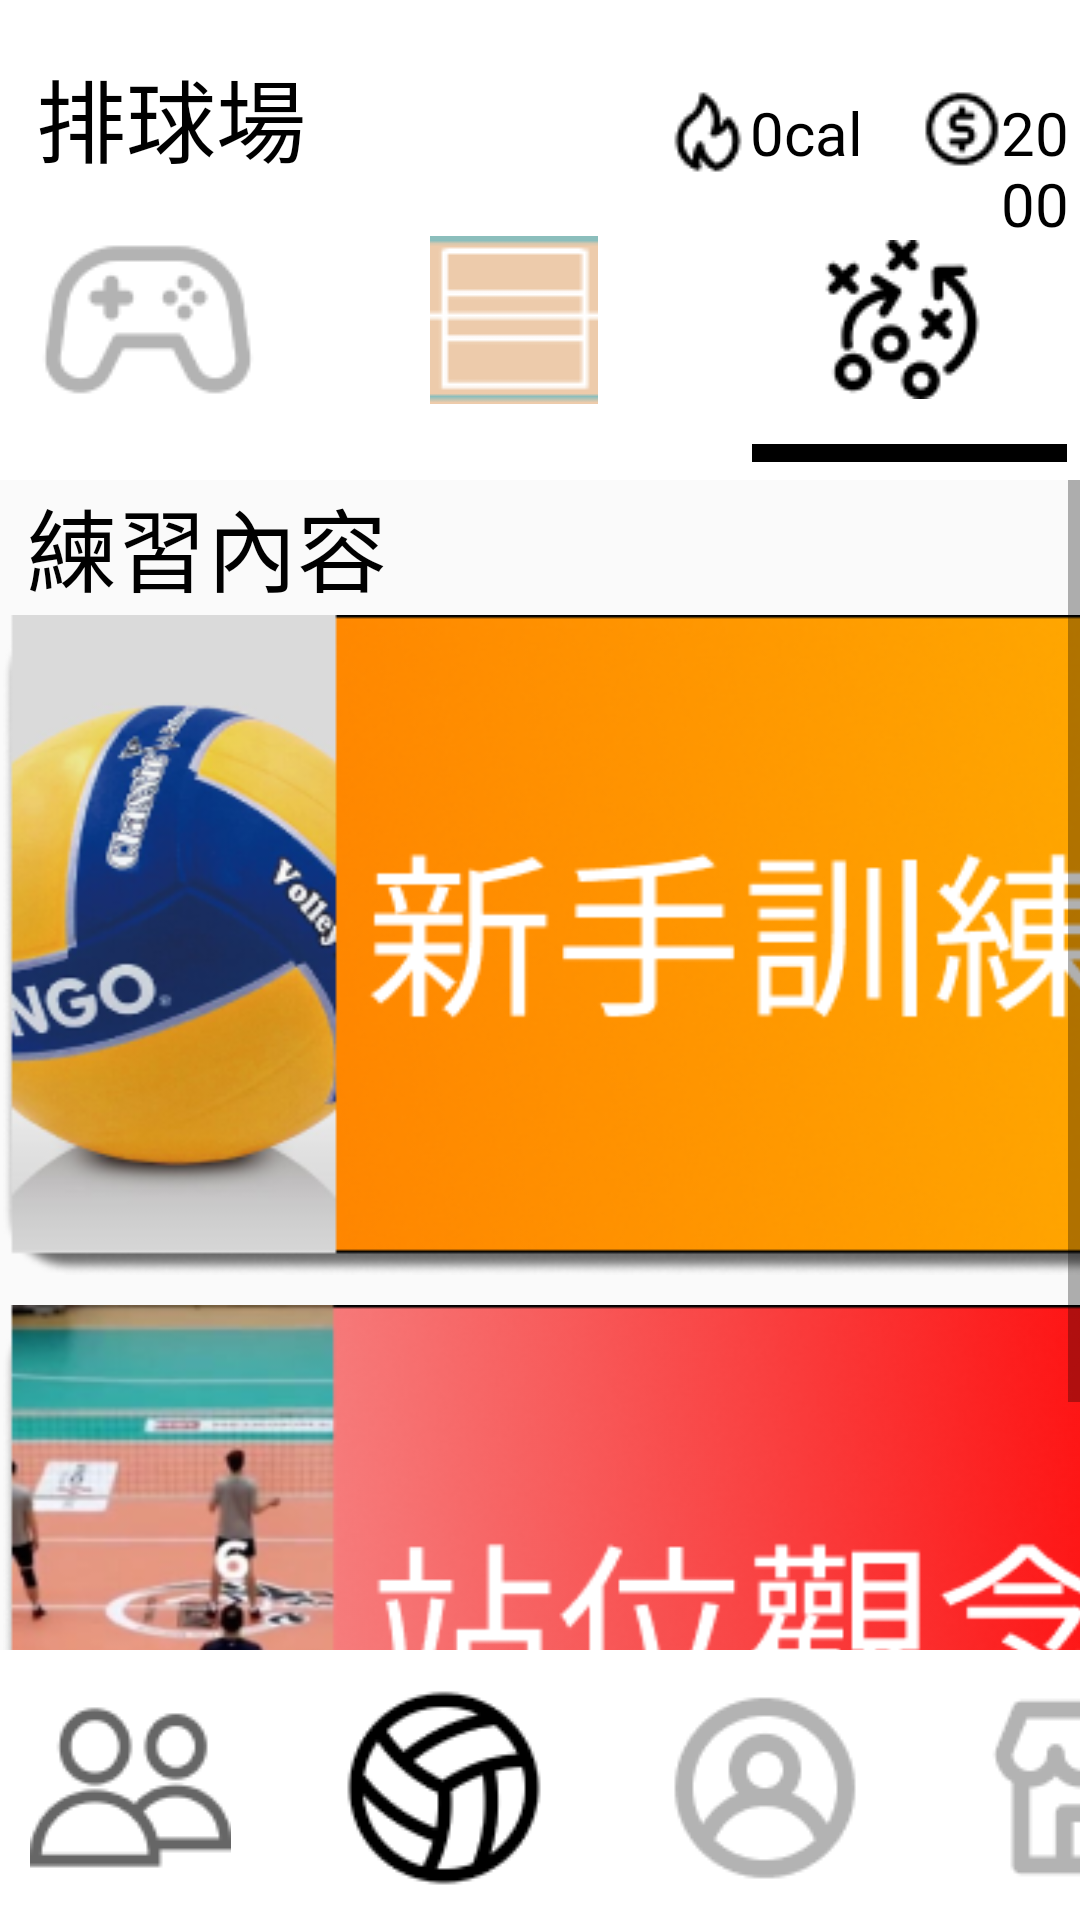

Screen size 1080x1920. Icon name, then its box in pixels as [x1, y1, x2, y2]:
friends: [30, 1707, 231, 1868]
game: [45, 246, 251, 393]
groundo: [430, 236, 598, 404]
profile: [675, 1697, 855, 1878]
strategyb: [825, 240, 980, 399]
volleyballb: [347, 1691, 541, 1885]
